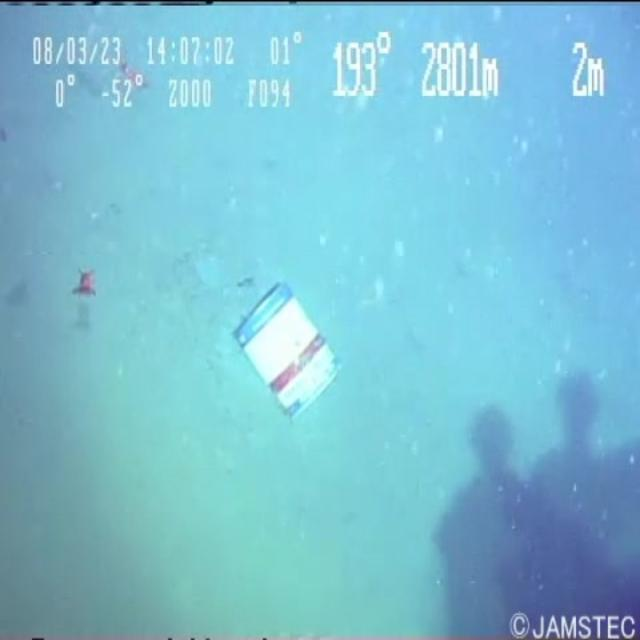Metal: (209, 274, 343, 424)
